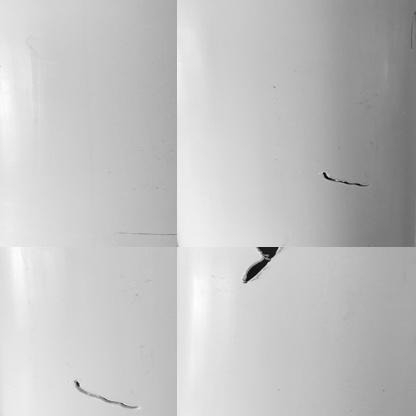fengxi: (70, 379, 138, 412), (322, 171, 370, 194)
kongdong: (237, 245, 281, 285)
